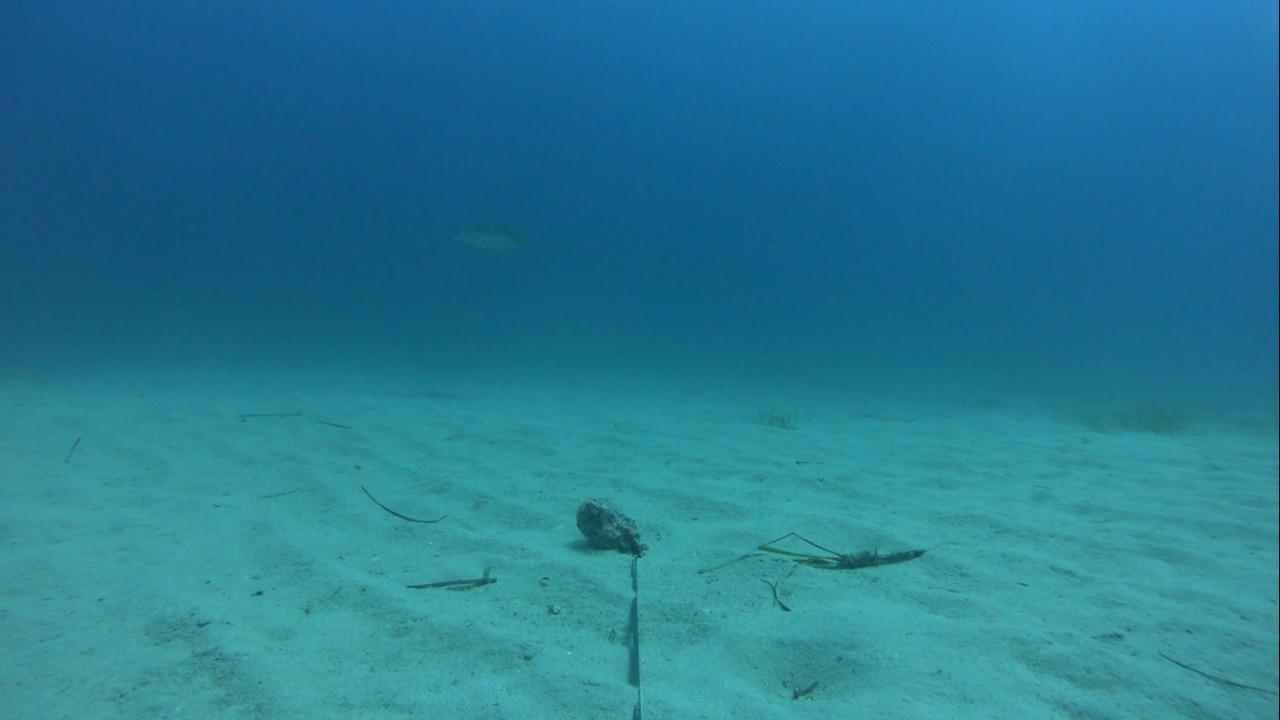myliobatis: (435, 216, 555, 265)
